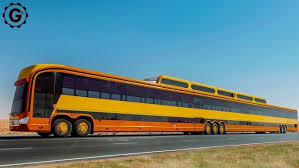bus: (7, 63, 299, 139)
